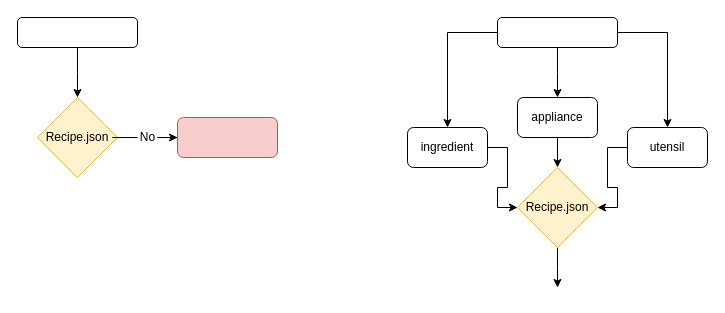
Image size: 725x313. Some labels were removed from this diagram. The shapes that lost their labels are listed below. From the top down, each one's centre as x and y in pixels, then its label:
At point 77,32: "User search".
At point 557,32: "User select".
At point 227,137: "Aucune recette".
